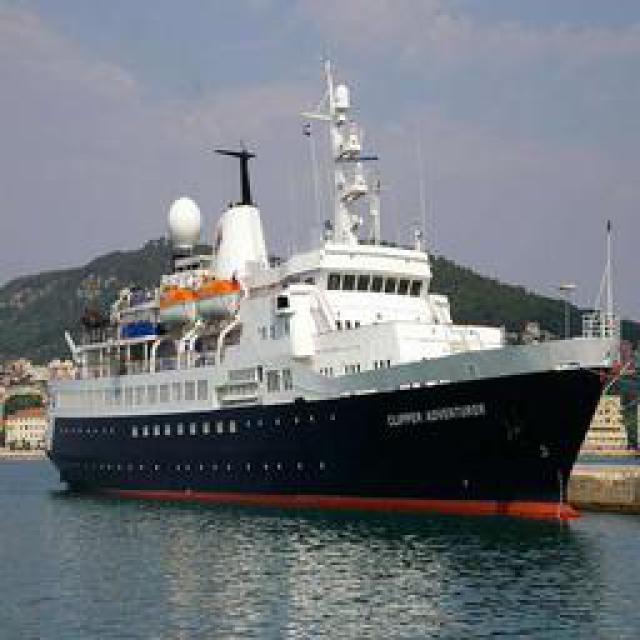Ship: (40, 38, 618, 506)
